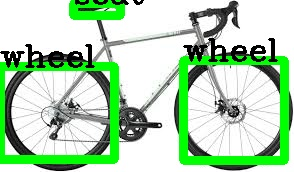seat: (73, 3, 120, 15)
wheel: (0, 66, 114, 159), (183, 60, 284, 160)
